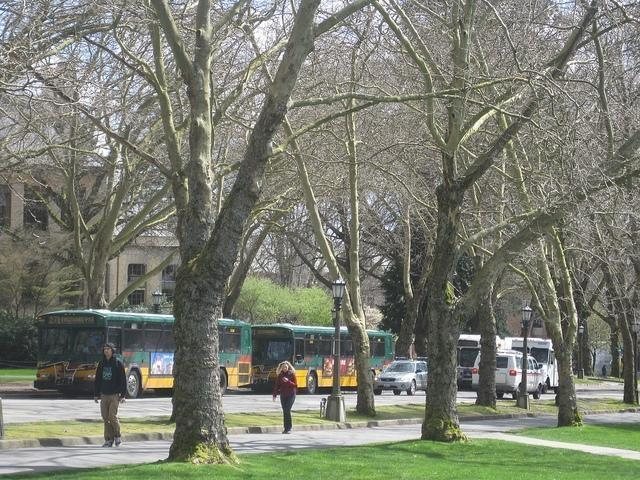bus: (35, 310, 252, 397), (250, 323, 396, 395), (457, 332, 481, 392)
car: (372, 360, 428, 396)
truck: (472, 350, 544, 400), (511, 339, 560, 394)
